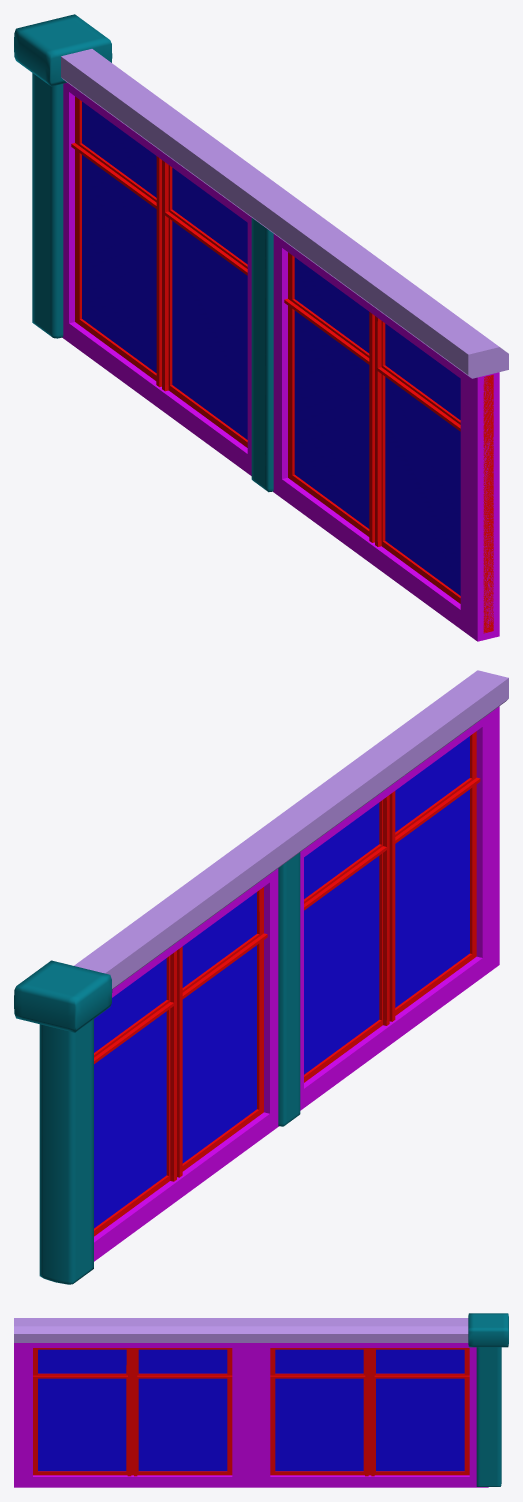
The model's file is WindowLarge.FBX.
The picture shows the model from 3 angles, top to bottom: view 1: azimuth 30°, elevation 25°; view 2: azimuth 150°, elevation 25°; view 3: azimuth 270°, elevation 25°; orthographic projection. The views are drawn at different scales.
Visible parts, largest first — view 1: Glass001, Glass, Roof ornament, Window004, Wall.detail, Window003, Window2, Window1; view 2: Glass001, Glass, Wall.detail, Roof ornament, Window004, Window2, Window003, Window1; view 3: Glass001, Glass, Roof ornament, Window004, Window2, Window1, Window003, Wall.detail.
Boxes of the visible parts, box(x1,y1,x2,y2) form: Glass001: box(294, 257, 460, 595); Glass: box(82, 101, 247, 439); Roof ornament: box(61, 49, 508, 378); Window004: box(273, 234, 499, 641); Wall.detail: box(14, 14, 273, 492); Window003: box(284, 252, 493, 633); Window2: box(62, 82, 251, 475); Window1: box(71, 96, 247, 447); Glass001: box(304, 736, 469, 1074); Glass: box(94, 892, 256, 1228); Wall.detail: box(14, 852, 300, 1284); Roof ornament: box(74, 670, 508, 989); Window004: box(300, 706, 499, 1110); Window2: box(94, 868, 278, 1261); Window003: box(304, 731, 480, 1082); Window1: box(94, 887, 267, 1236); Glass001: box(38, 1349, 227, 1471); Glass: box(275, 1349, 464, 1471); Roof ornament: box(14, 1318, 468, 1342); Window004: box(14, 1343, 251, 1487); Window2: box(251, 1343, 488, 1487); Window1: box(270, 1348, 469, 1476); Window003: box(33, 1348, 232, 1476); Wall.detail: box(468, 1313, 508, 1486).
Size of the model in its own units: 66.48 by 299 by 821.
